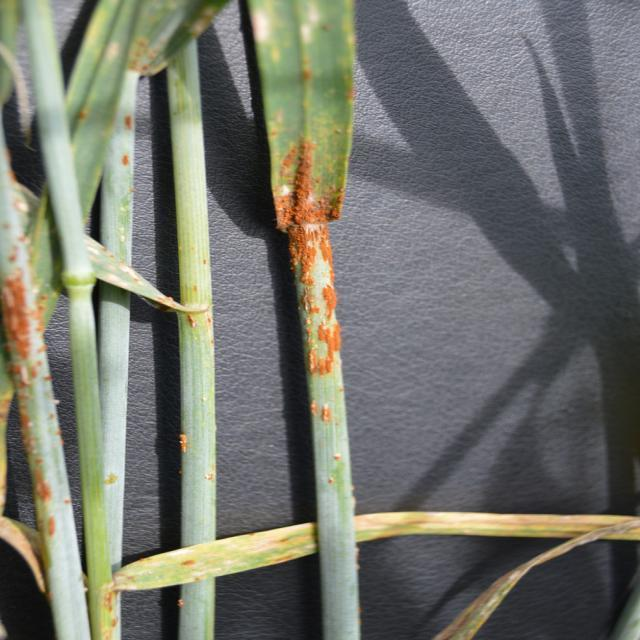Stem Rust: (253, 102, 371, 411), (0, 194, 79, 588)
